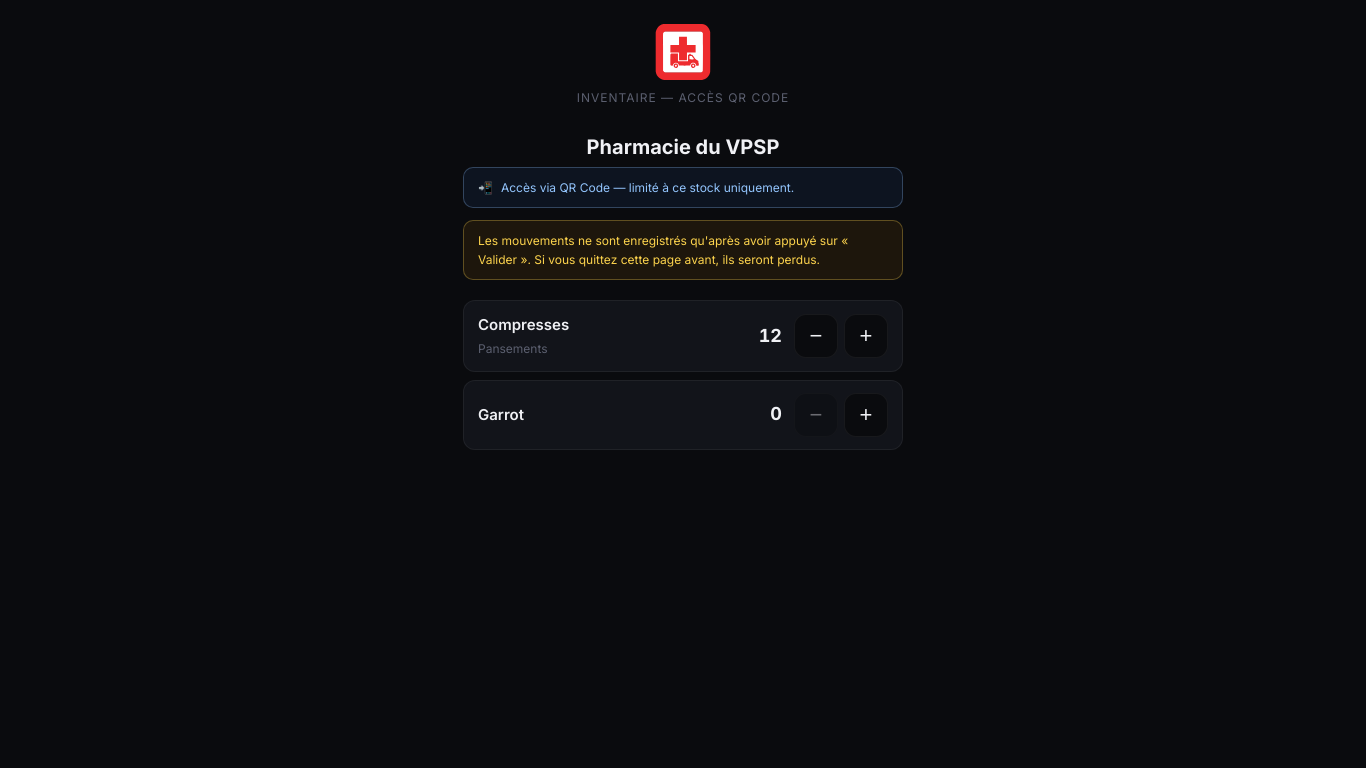
QRStockPage › ouvre le sélecteur de lot sur « + », avec les lots FEFO et un nouveau lot (AC-I4)
The width and height of the screenshot is (1366, 768).
Expected: the heading "Pharmacie du VPSP" is shown, 587,135 -> 779,159
Click the button named "Ajouter une unité de Compresses" at (866, 336), box 844,314 -> 888,358
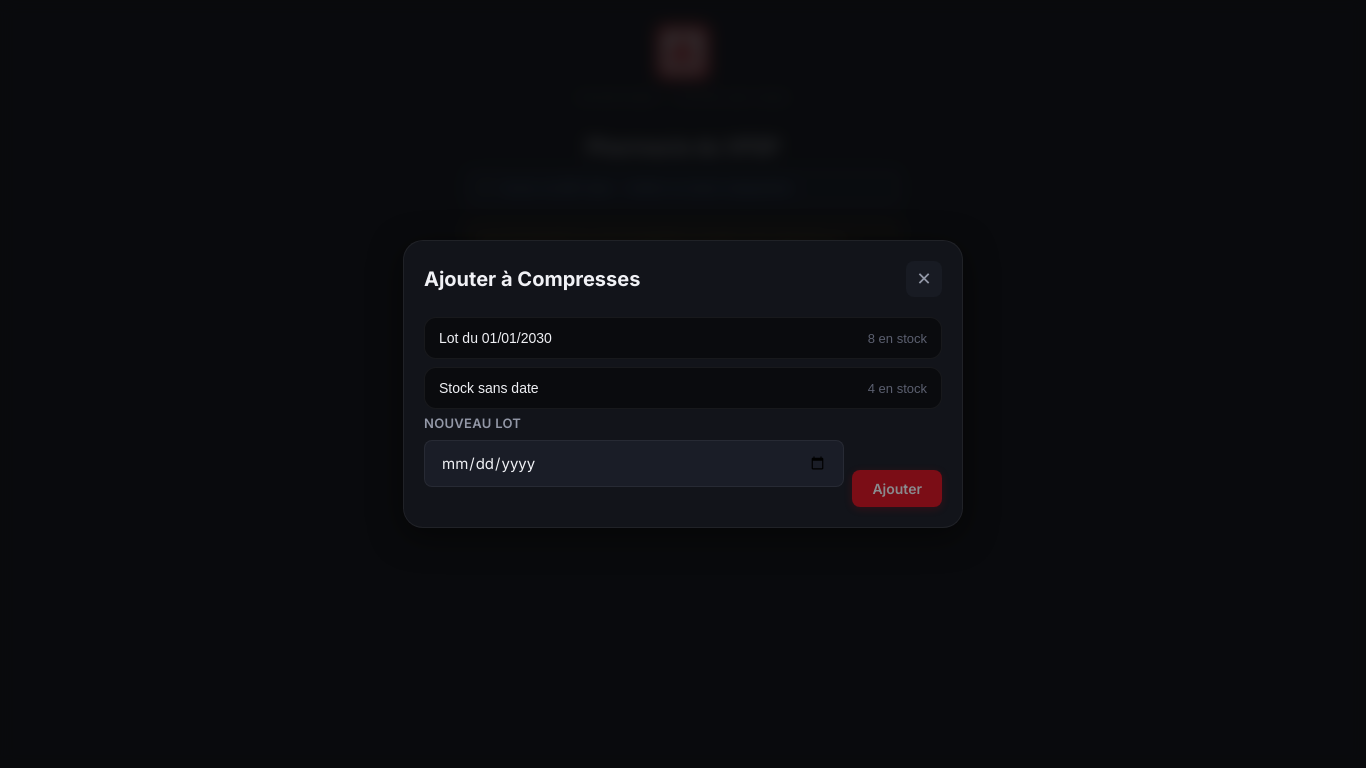
Now the text "Lot du 01/01/2030" is shown, box 439,330 -> 552,346
Now the text "Stock sans date" is shown, box 439,380 -> 539,396
